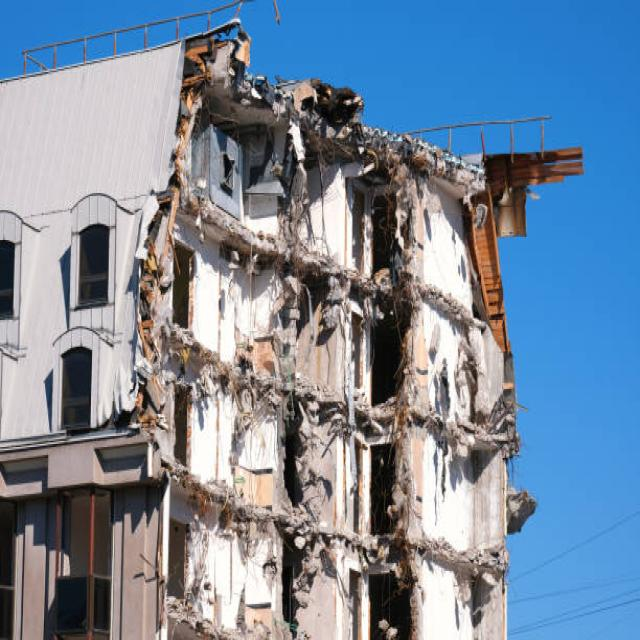Destroyed_building: (101, 0, 603, 640)
